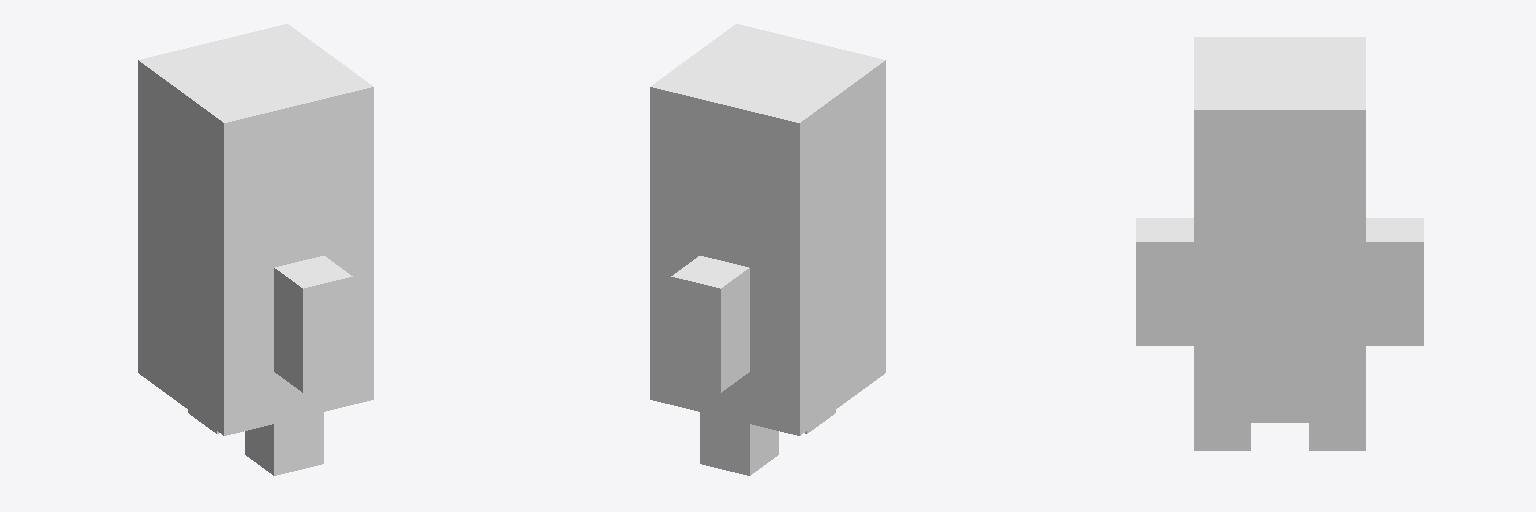
File: Garret3.obj
3 views of the same model, side by side, from view 1: azimuth 30°, elevation 25°; view 2: azimuth 150°, elevation 25°; view 3: azimuth 270°, elevation 25° (orthographic).
Bounding box in the file's own units: 3 × 7 × 5.